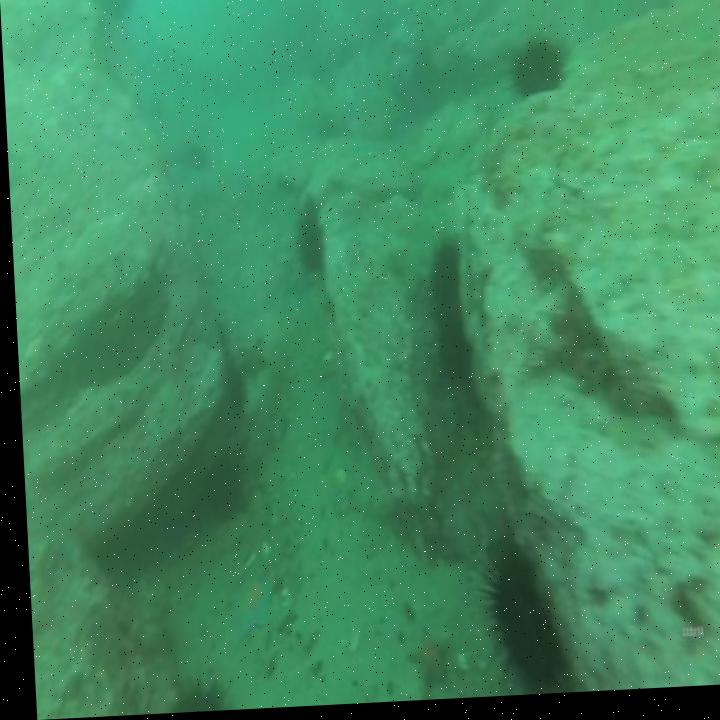echinus: (474, 546, 560, 689), (424, 248, 464, 385), (508, 43, 566, 100), (289, 195, 330, 275), (198, 460, 239, 513)
starfish: (398, 625, 448, 703), (226, 576, 278, 630), (234, 335, 265, 387)
